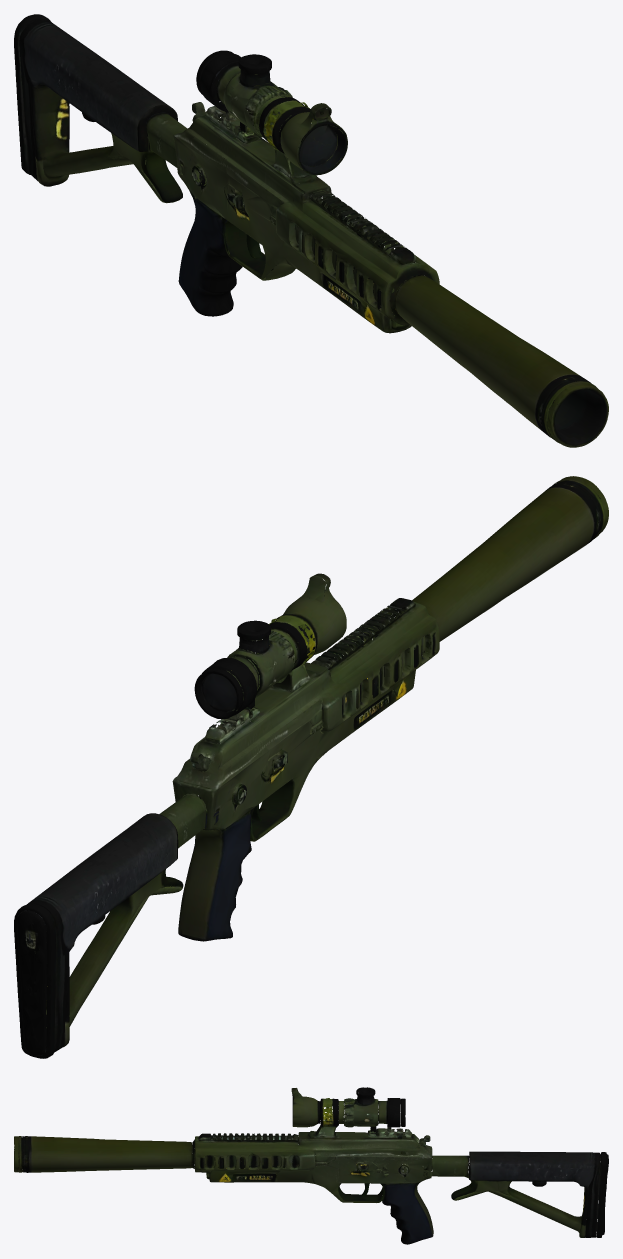
The model's file is launcher.glb.
3 views of the same model, one above another, from view 1: azimuth 30°, elevation 25°; view 2: azimuth 150°, elevation 25°; view 3: azimuth 270°, elevation 25° (orthographic). The views are drawn at different scales.
Visible parts, largest first — view 1: model; view 2: model; view 3: model.
Part boxes in pixels (x1=…): model: x1=14, y1=14, x2=608, y2=447; model: x1=14, y1=476, x2=608, y2=1058; model: x1=14, y1=1087, x2=608, y2=1244.
Bounding box in the file's own units: 3899 × 17776 × 62625.
Materials: 1 (1 with a texture image).
